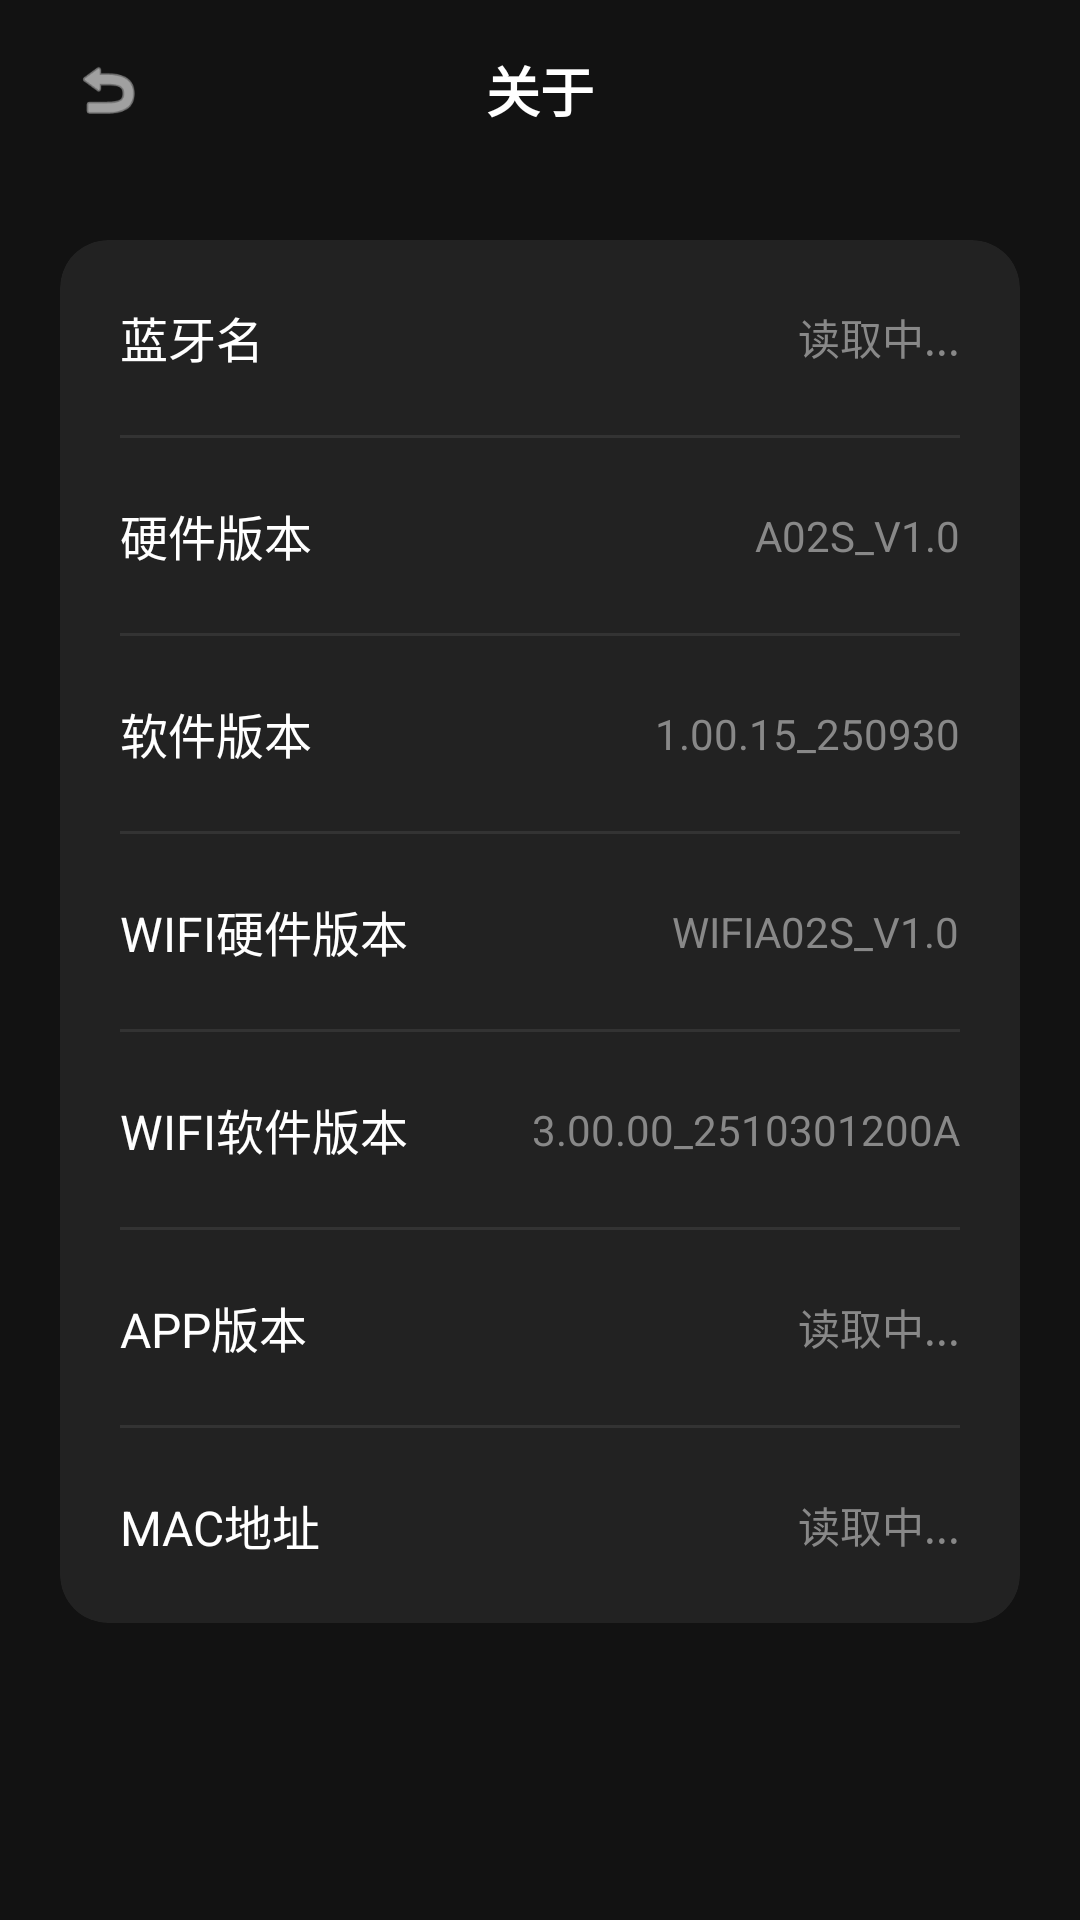

Screen size 1080px×1920px. Icon name, then its box in pixels as (x1, y1, x2, y2):
revert: (83, 67, 135, 114)
